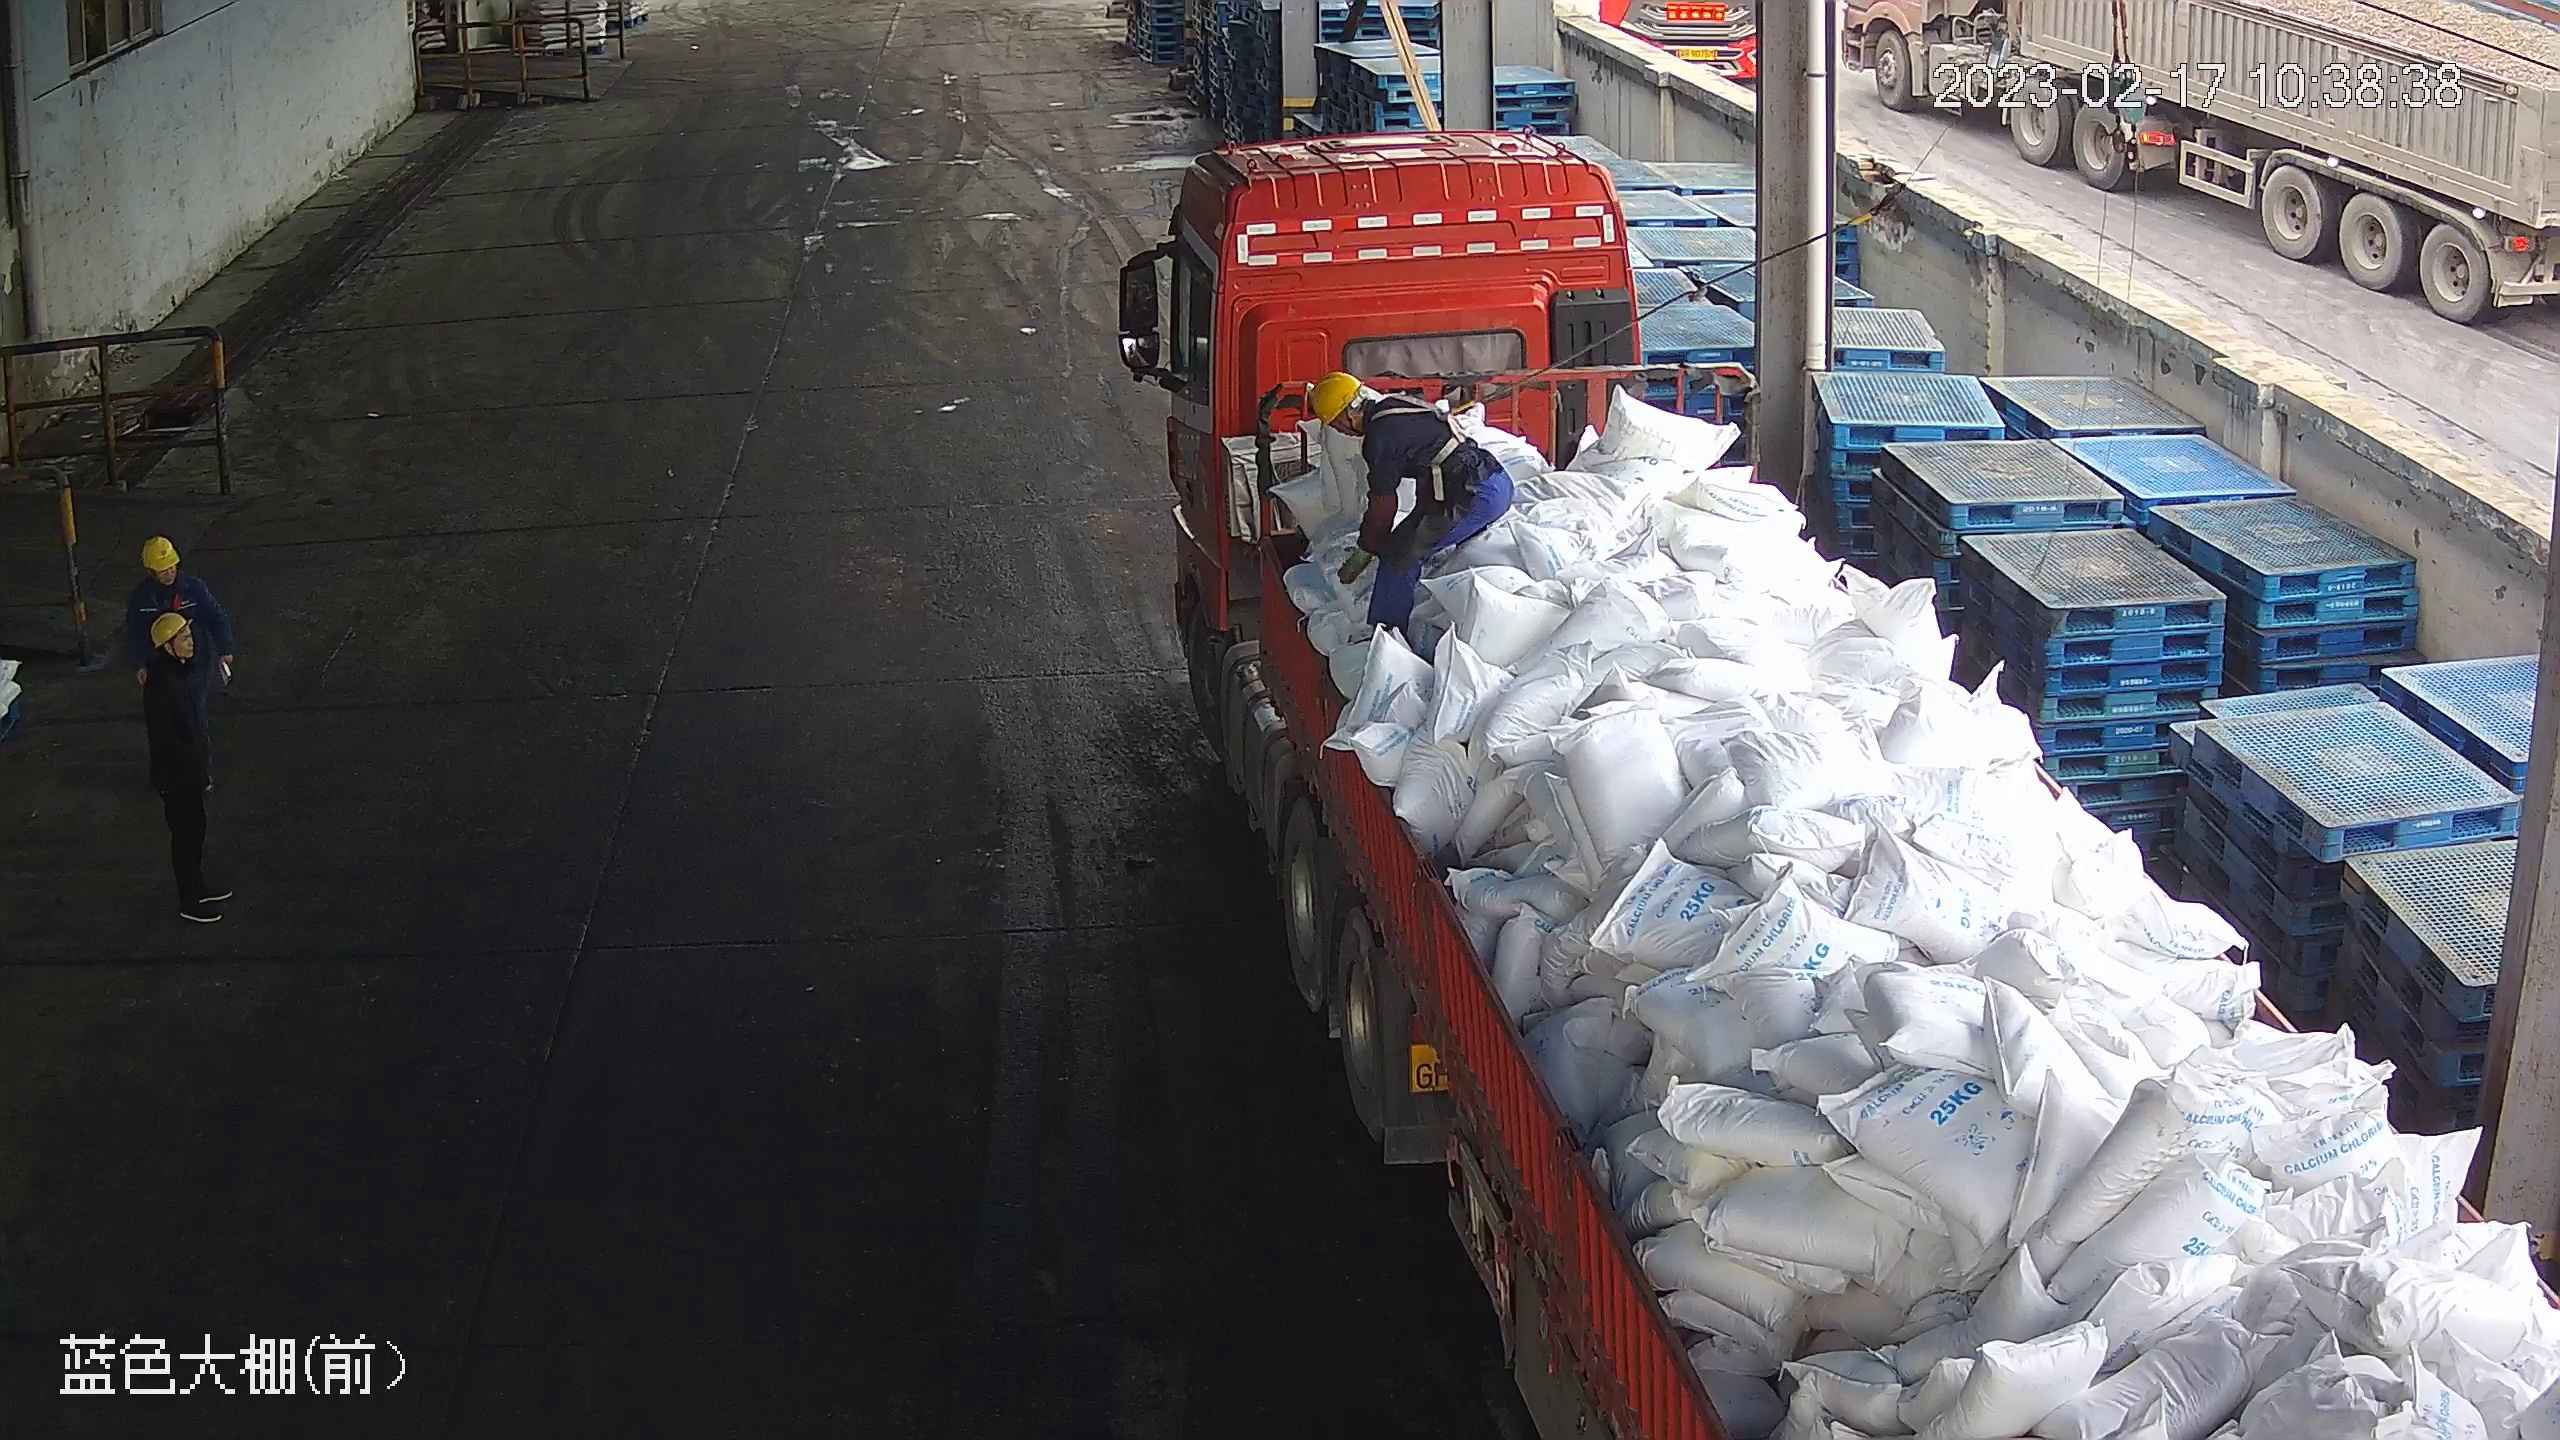belt: (1378, 381, 1485, 457)
head: (1306, 369, 1437, 471), (137, 606, 215, 707), (123, 536, 210, 622)
helmet: (1309, 368, 1360, 427), (146, 608, 197, 649), (135, 534, 177, 569)
people: (1299, 367, 1518, 650), (135, 598, 237, 927)
truck: (1116, 137, 2558, 1439)
